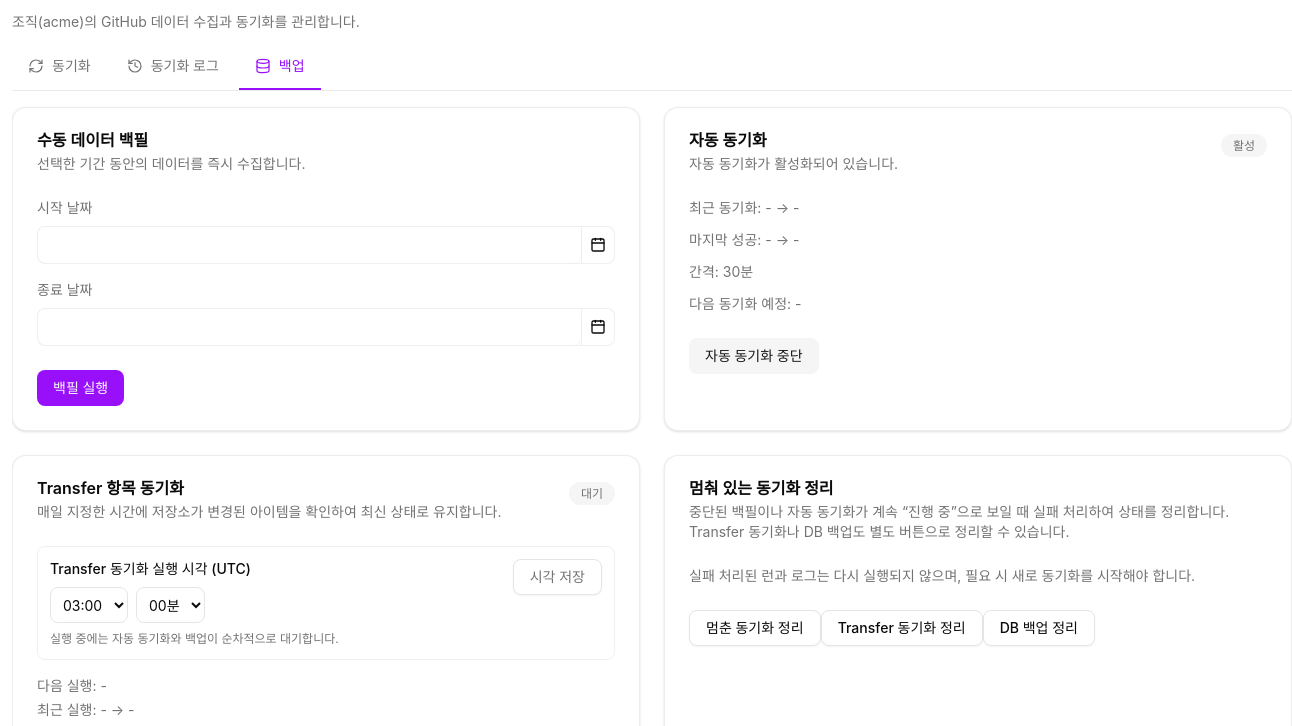
it: SyncControls › handles non-JSON responses from the automatic sync endpoint
Click the button "자동 동기화 중단" at (754, 356), box [689,338,819,374]
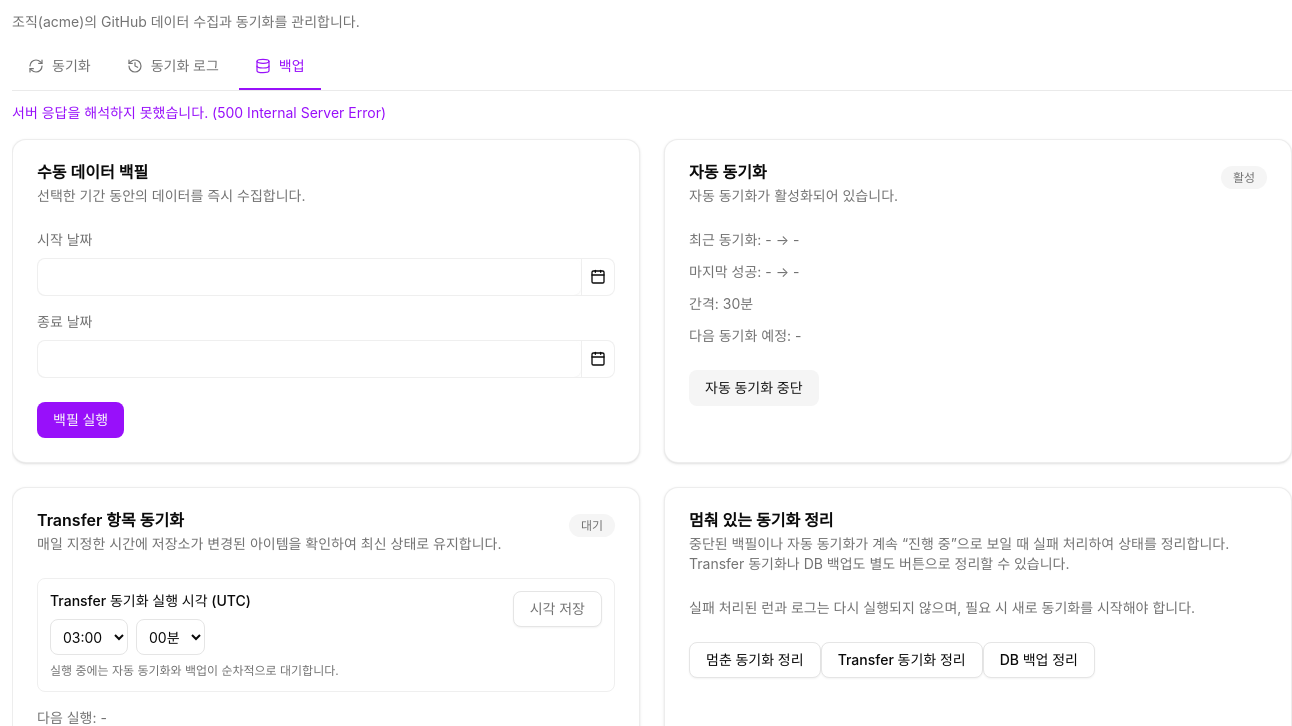
Expected: the text "서버 응답을 해석하지 못했습니다. (500 Internal Server Error)" is shown, [12,104,386,121]
